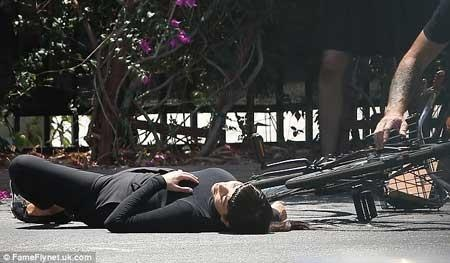falling: (5, 146, 305, 235)
